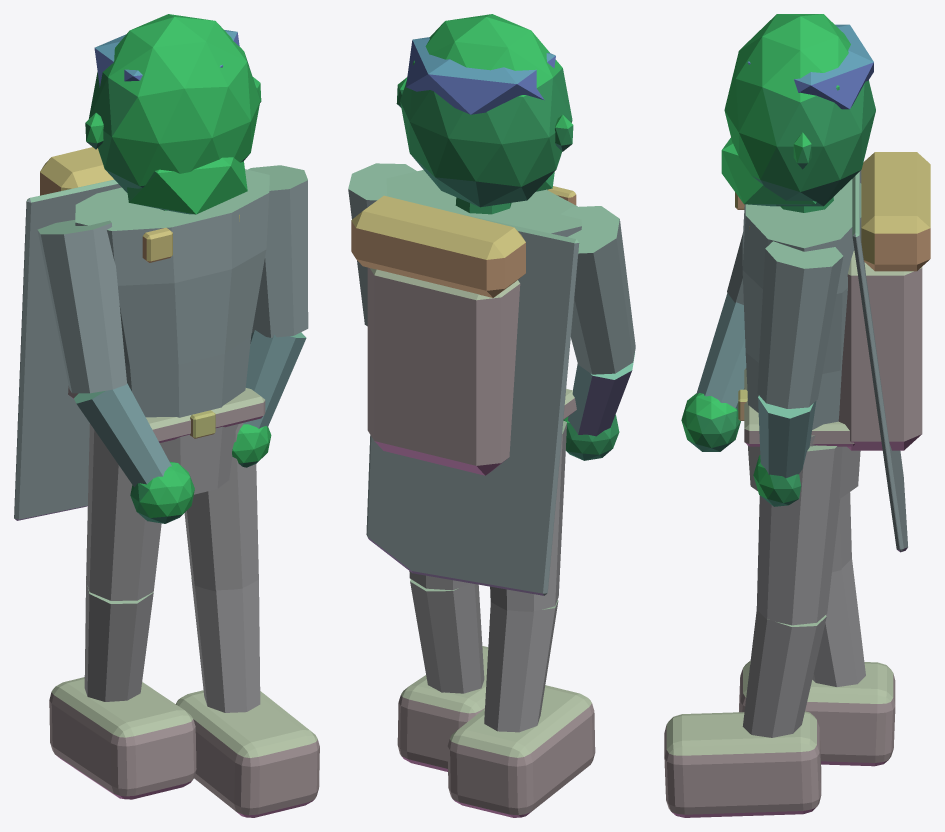
Rendered from npc_refugee_down_r_v01.glb.
The picture shows the model from 3 angles, left to right: view 1: azimuth 30°, elevation 25°; view 2: azimuth 150°, elevation 25°; view 3: azimuth 270°, elevation 25°; orthographic projection.
Parts seen in each view (by area): view 1: GEO_npc_refugee_down_r_v01; view 2: GEO_npc_refugee_down_r_v01; view 3: GEO_npc_refugee_down_r_v01.
Boxes of the visible parts, left/top/right/bottom form: GEO_npc_refugee_down_r_v01: left=14, top=14, right=319, bottom=817; GEO_npc_refugee_down_r_v01: left=348, top=14, right=635, bottom=817; GEO_npc_refugee_down_r_v01: left=664, top=14, right=930, bottom=817.
Bounding box in the file's own units: 0.7519 × 2.08 × 0.6538.
